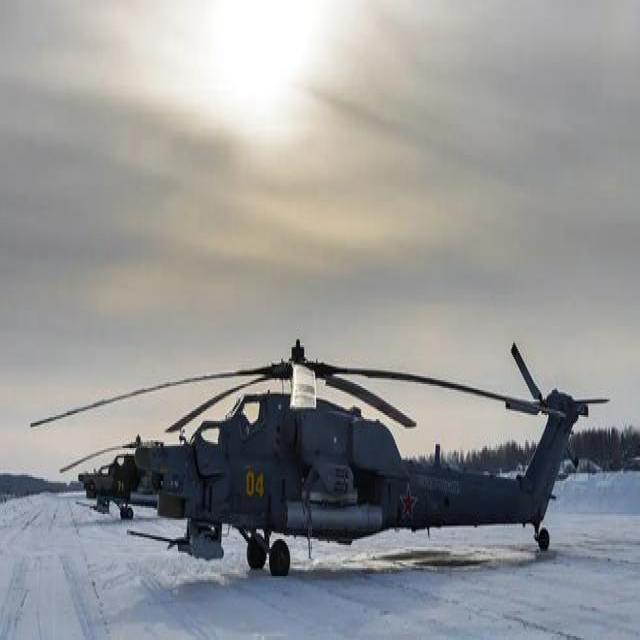MIL_HELO: (0, 303, 593, 579)
